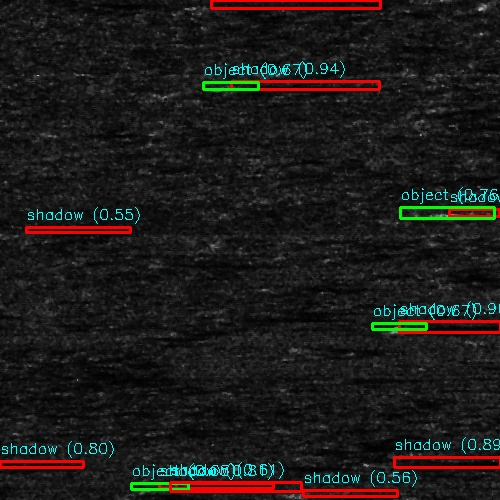rock: (390, 207, 483, 220), (346, 458, 419, 465), (211, 81, 252, 92), (275, 490, 338, 497), (399, 325, 420, 330), (155, 485, 176, 488)
shadow: (232, 81, 380, 92), (437, 207, 500, 220), (383, 458, 500, 465), (307, 490, 379, 497), (410, 325, 500, 330), (166, 485, 268, 488)
